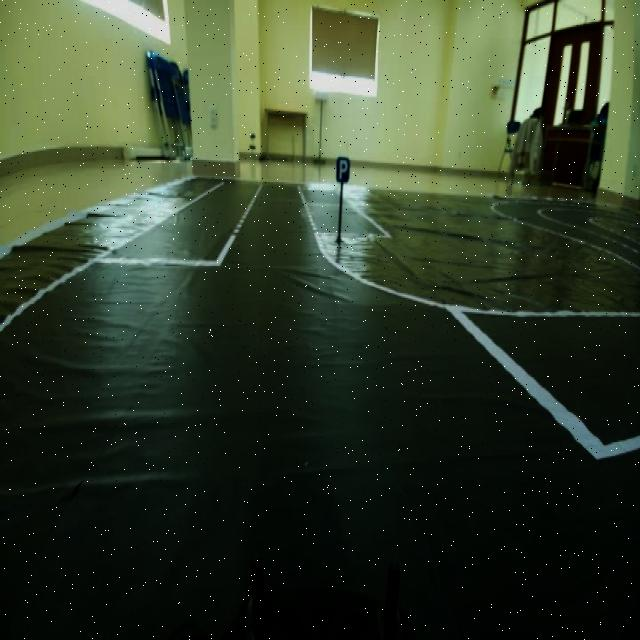parking: (327, 144, 354, 190)
